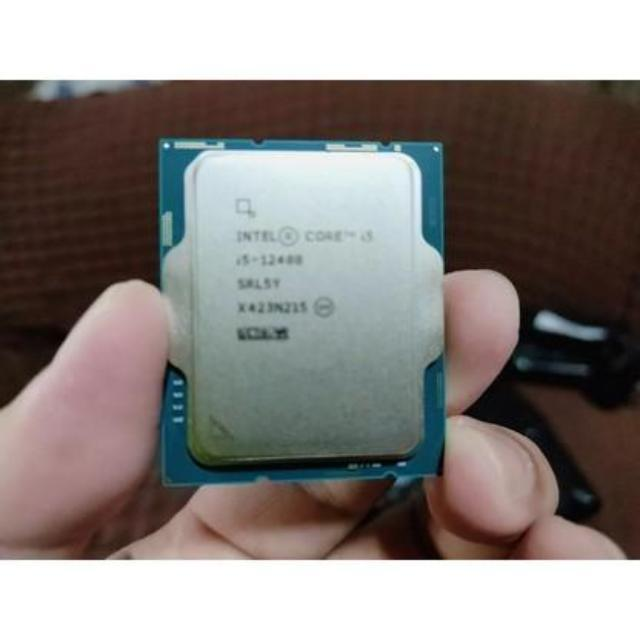CPU: (167, 147, 444, 476)
